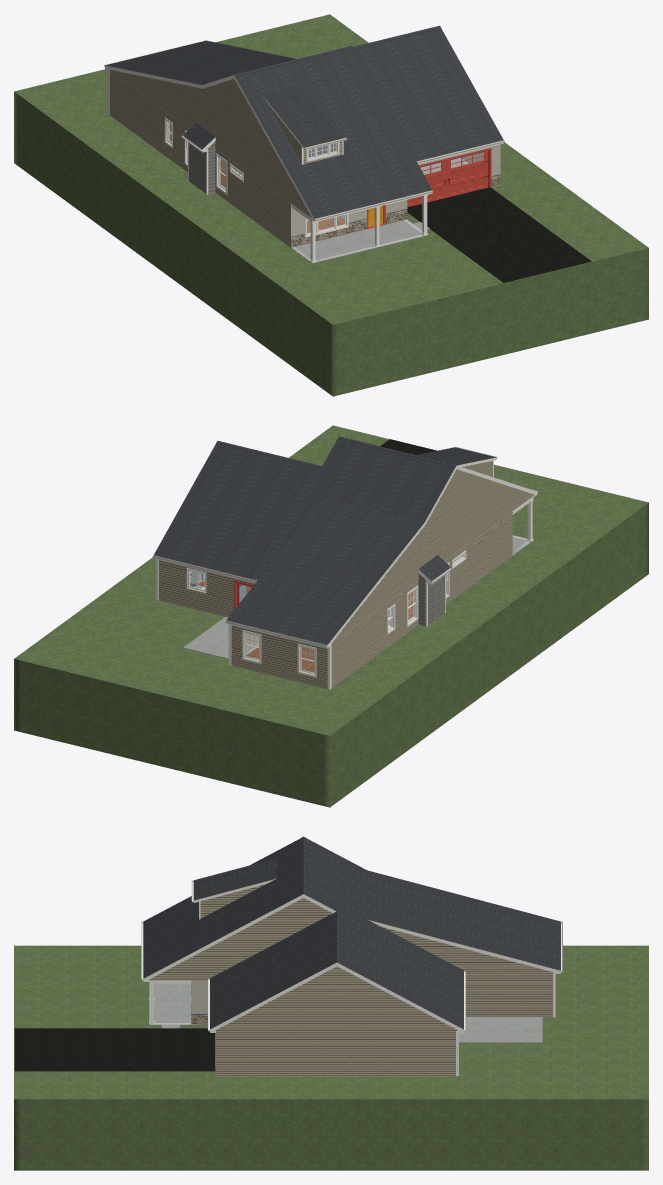
Rendered from house.dae.
3 renders of one model, top to bottom at view 1: azimuth 30°, elevation 25°; view 2: azimuth 150°, elevation 25°; view 3: azimuth 270°, elevation 25°, orthographic.
Visible parts, largest first — view 1: geo_132, geo_131, geo_146, geo_185, geo_11, geo_180, geo_61, geo_167, geo_127, geo_162, geo_178; view 2: geo_132, geo_131, geo_146, geo_11, geo_127, geo_61, geo_162, geo_71; view 3: geo_132, geo_131, geo_146, geo_185, geo_11, geo_61, geo_167.
Part boxes in pixels (x1,y1,x2,y2): geo_132: (14, 14, 648, 396); geo_131: (105, 25, 503, 218); geo_146: (109, 69, 341, 247); geo_185: (407, 187, 591, 282); geo_11: (104, 40, 504, 262); geo_180: (170, 124, 491, 229); geo_61: (291, 158, 466, 262); geo_167: (290, 144, 500, 236); geo_127: (167, 122, 483, 232); geo_162: (189, 141, 215, 193); geo_178: (290, 175, 500, 247); geo_132: (14, 425, 648, 807); geo_131: (154, 436, 495, 644); geo_146: (159, 461, 533, 688); geo_11: (152, 447, 538, 689); geo_127: (189, 554, 463, 672); geo_61: (183, 537, 533, 658); geo_162: (418, 573, 444, 626); geo_71: (195, 581, 412, 672); geo_132: (14, 945, 648, 1170); geo_131: (143, 836, 560, 1029); geo_146: (149, 884, 553, 1075); geo_185: (14, 1028, 214, 1071); geo_11: (141, 878, 562, 1075); geo_61: (149, 984, 542, 1042); geo_167: (191, 980, 215, 1065).
Size of the model in its own units: 720 by 1259 by 445.
Materials: 51 (24 with a texture image).
